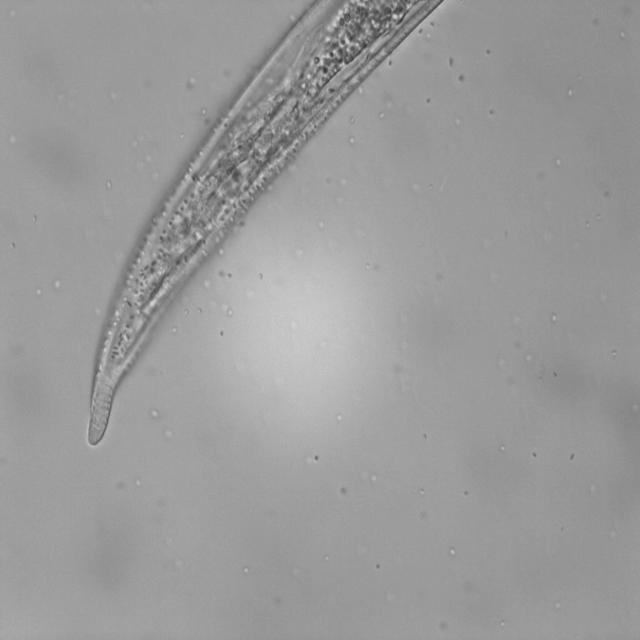Radopholus: (79, 2, 480, 454)
